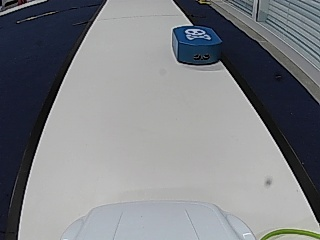danger: (186, 29, 208, 39)
